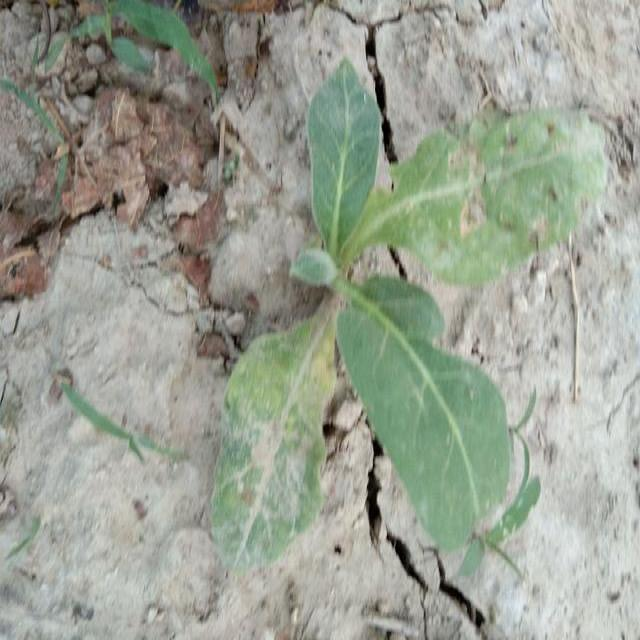crop: (221, 66, 602, 546)
